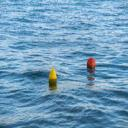red: (87, 58, 95, 69)
yellow: (48, 69, 57, 79)
